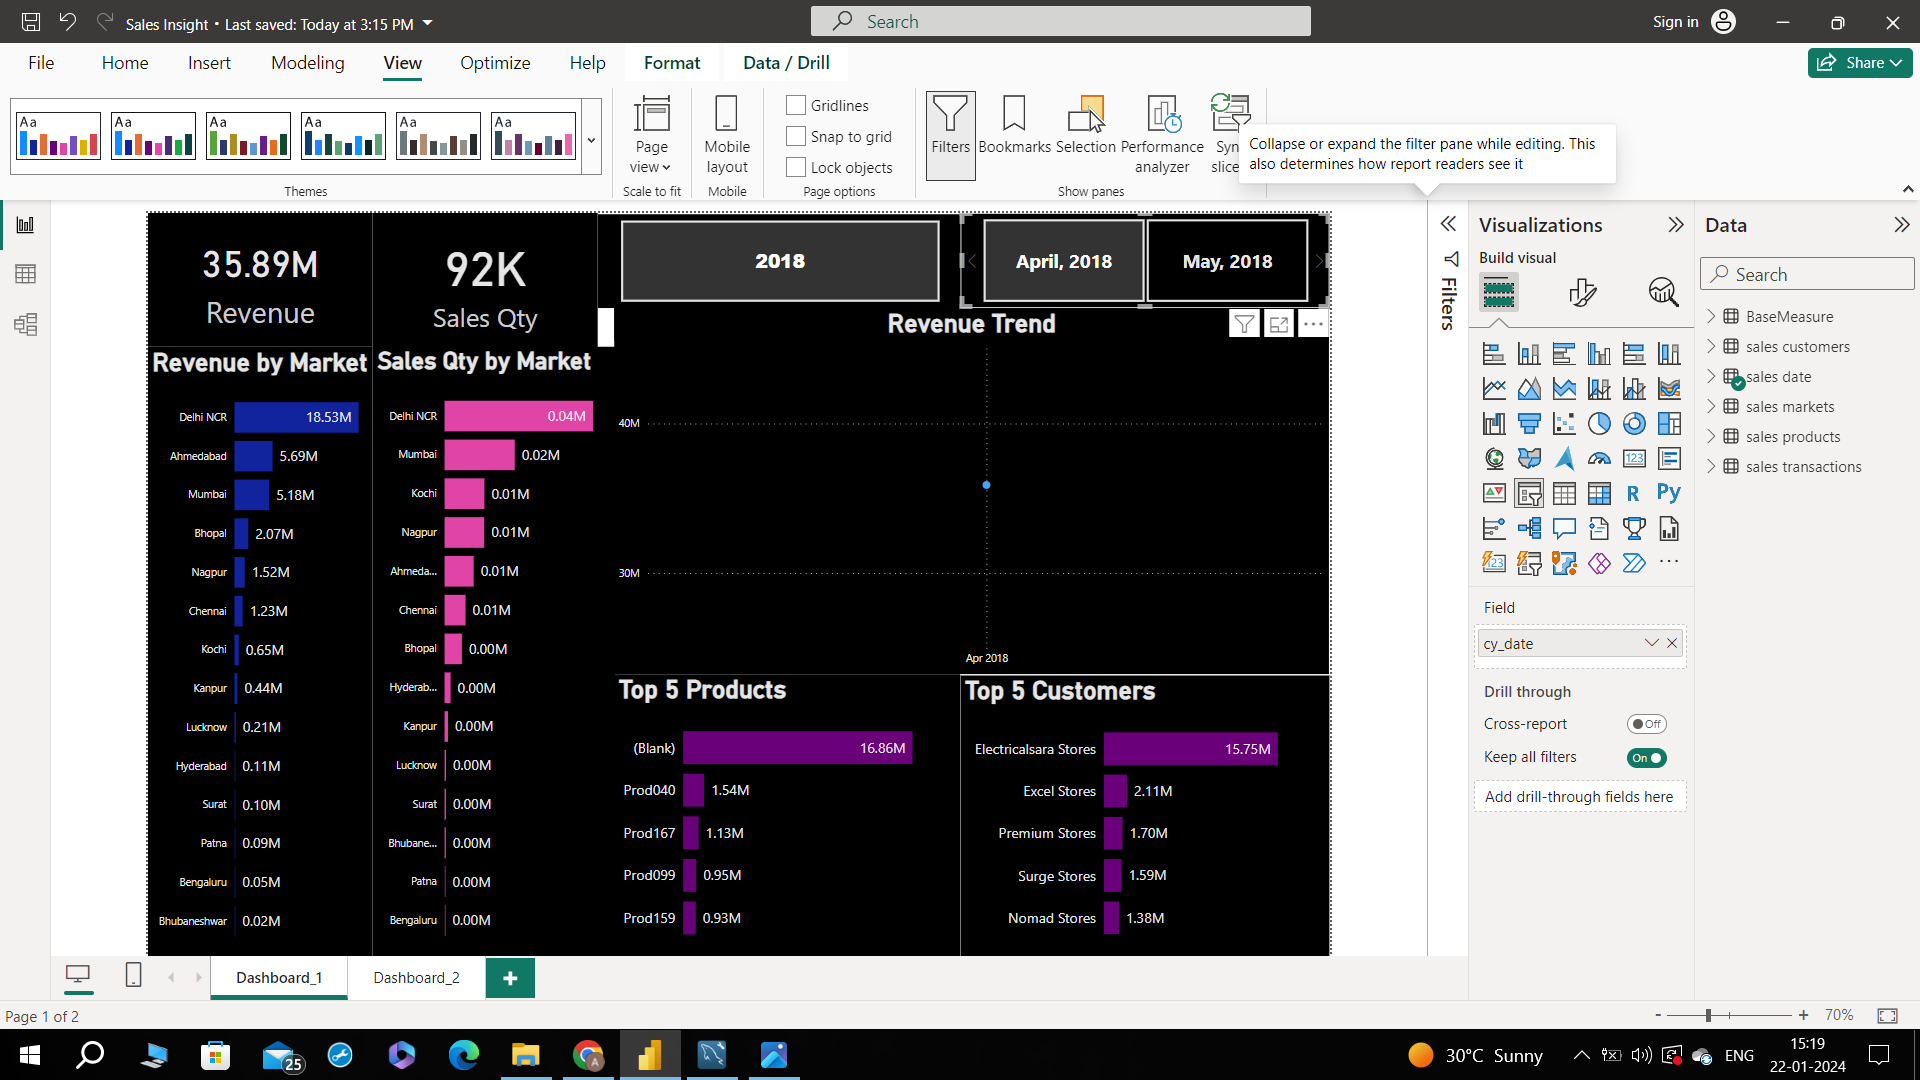

Layout of this report page (visuals, bound fields, positions):
{"tool":"powerbi","page":{"name":"Dashboard_1","canvas":[1350,850],"ordinal":0},"visuals":[{"type":"card","fields":{"Values":["BaseMeasure.Revenue"]},"box":[0,0,257.1,152.9],"z":0},{"type":"card","fields":{"Values":["BaseMeasure.Sales Qty"]},"box":[256.7,0,256.7,153.3],"z":1000},{"type":"barChart","title":"Revenue by Market","fields":{"Y":["BaseMeasure.Revenue"],"Category":["sales markets.markets_name"]},"box":[0,152.9,257.1,697.1],"z":2000},{"type":"barChart","title":"Sales Qty by Market","fields":{"Y":["BaseMeasure.Sales Qty"],"Category":["sales markets.markets_name"]},"box":[256.7,153.3,276.7,696.7],"z":3000},{"type":"slicer","title":"Year","fields":{"Values":["sales date.year"]},"box":[514.3,1.4,414.3,107.1],"z":4000},{"type":"slicer","fields":{"Values":["sales date.cy_date"]},"box":[928.6,0,421.4,108.6],"z":5000},{"type":"barChart","title":"Top 5 Customers","fields":{"Y":["BaseMeasure.Revenue"],"Category":["sales customers.custmer_name"]},"box":[928.6,528.6,421.4,321.4],"z":6000},{"type":"barChart","title":"Top 5 Products","fields":{"Y":["BaseMeasure.Revenue"],"Category":["sales products.product_code"]},"box":[533.3,526.7,395,323.3],"z":7000},{"type":"lineChart","title":"Revenue Trend","fields":{"Y":["BaseMeasure.Revenue"],"Category":["sales date.cy_date"]},"box":[532.9,108.6,817.1,418.6],"z":8000}]}

Visuals, with their boxes on the page's 1350x850 design canvas (x1, y1, x2, y2). These are canvas units, not pixel positions in the 1920x1080 screenshot, which may show the page scaled, cropped or inside an application window:
card - BaseMeasure.Revenue: 0:0:257:153
card - BaseMeasure.Sales Qty: 257:0:513:153
"Revenue by Market" barChart: 0:153:257:850
"Sales Qty by Market" barChart: 257:153:533:850
"Year" slicer: 514:1:929:108
slicer - sales date.cy_date: 929:0:1350:109
"Top 5 Customers" barChart: 929:529:1350:850
"Top 5 Products" barChart: 533:527:928:850
"Revenue Trend" lineChart: 533:109:1350:527
